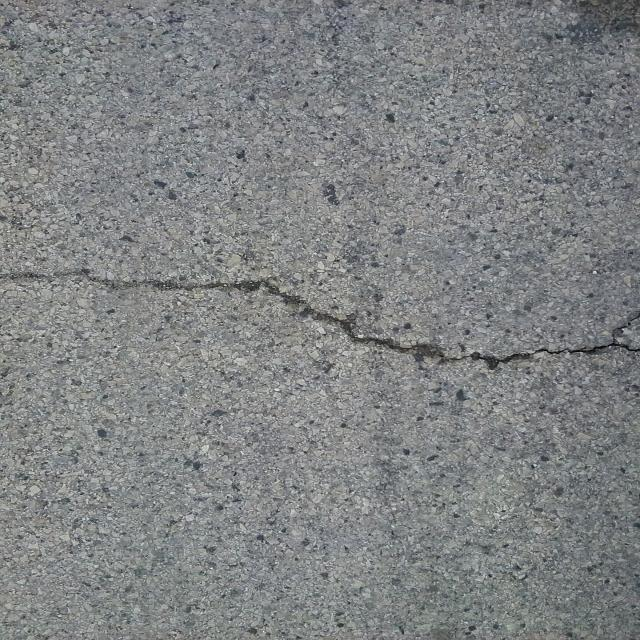transverse: (2, 226, 640, 406)
